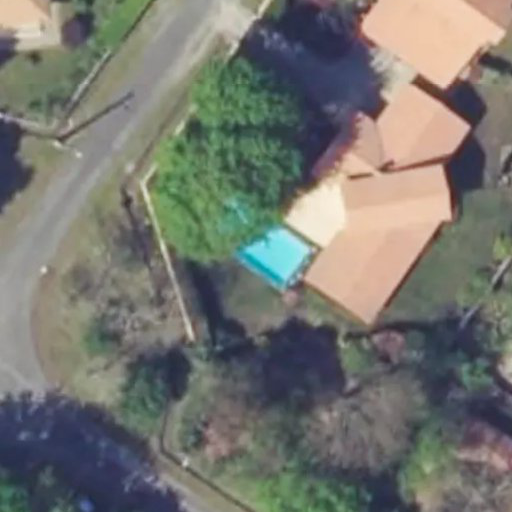pool: (203, 232, 308, 251)
